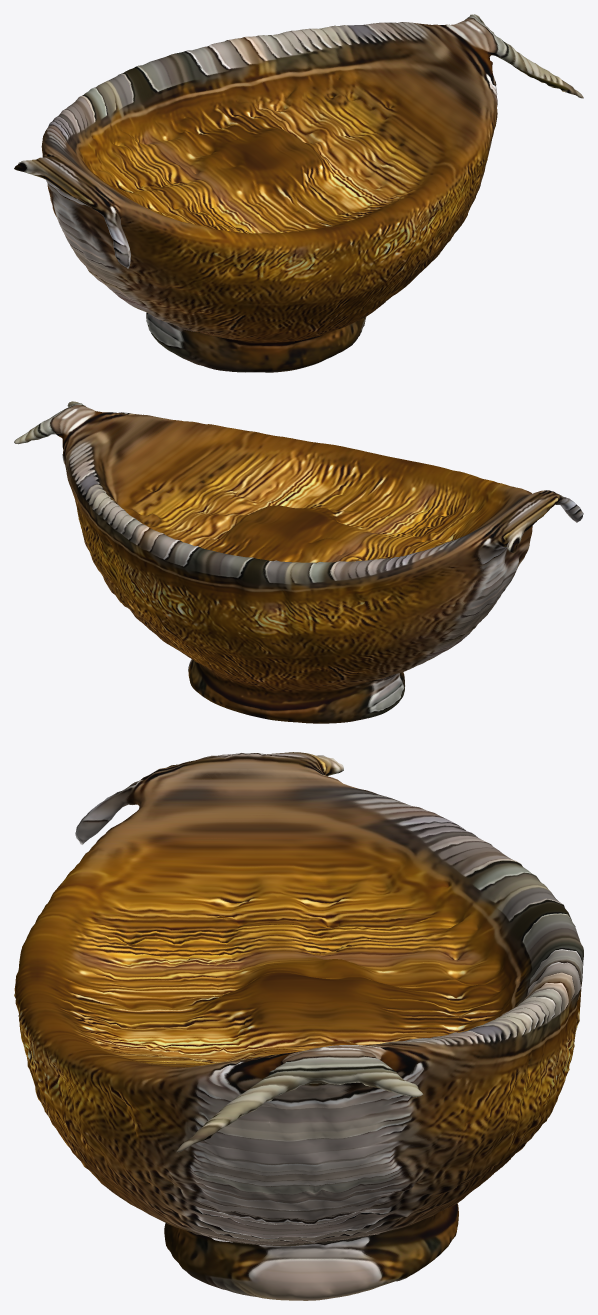
Rendered from kfl-2318.glb.
3 renders of one model, top to bottom at view 1: azimuth 30°, elevation 25°; view 2: azimuth 150°, elevation 25°; view 3: azimuth 270°, elevation 25°, orthographic. The views are drawn at different scales.
Visible parts, largest first — view 1: kfl-2318; view 2: kfl-2318; view 3: kfl-2318.
Boxes of the visible parts, box(x1,y1,x2,y2) form: kfl-2318: box(14, 14, 583, 372); kfl-2318: box(14, 401, 583, 723); kfl-2318: box(14, 752, 583, 1300).
Size of the model in its own units: 0.9884 by 0.4529 by 0.6513.
1 material, 1 textured.
